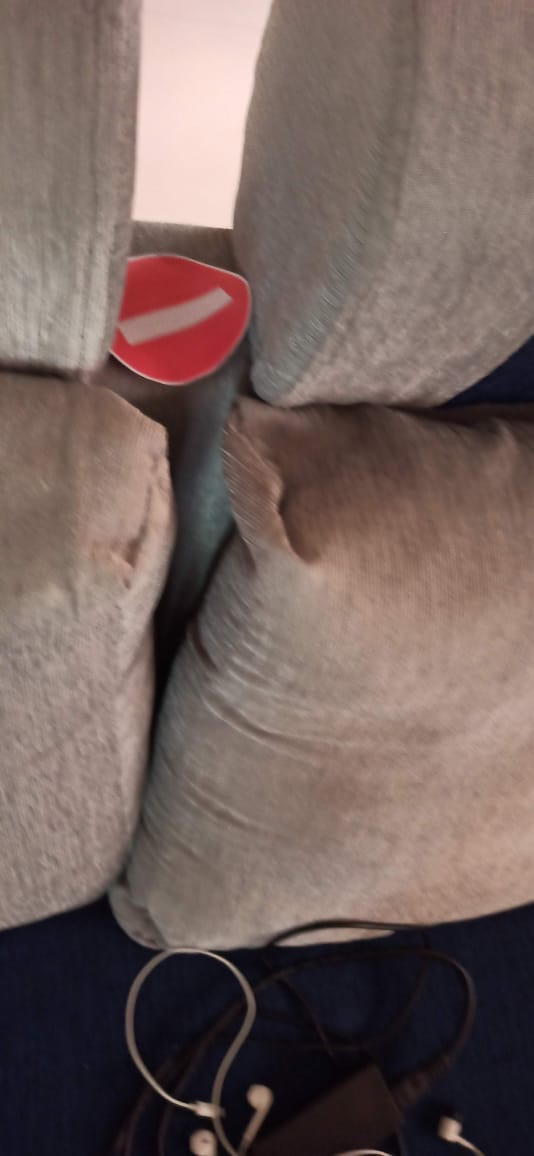NO ENTRY: (84, 192, 286, 403)
